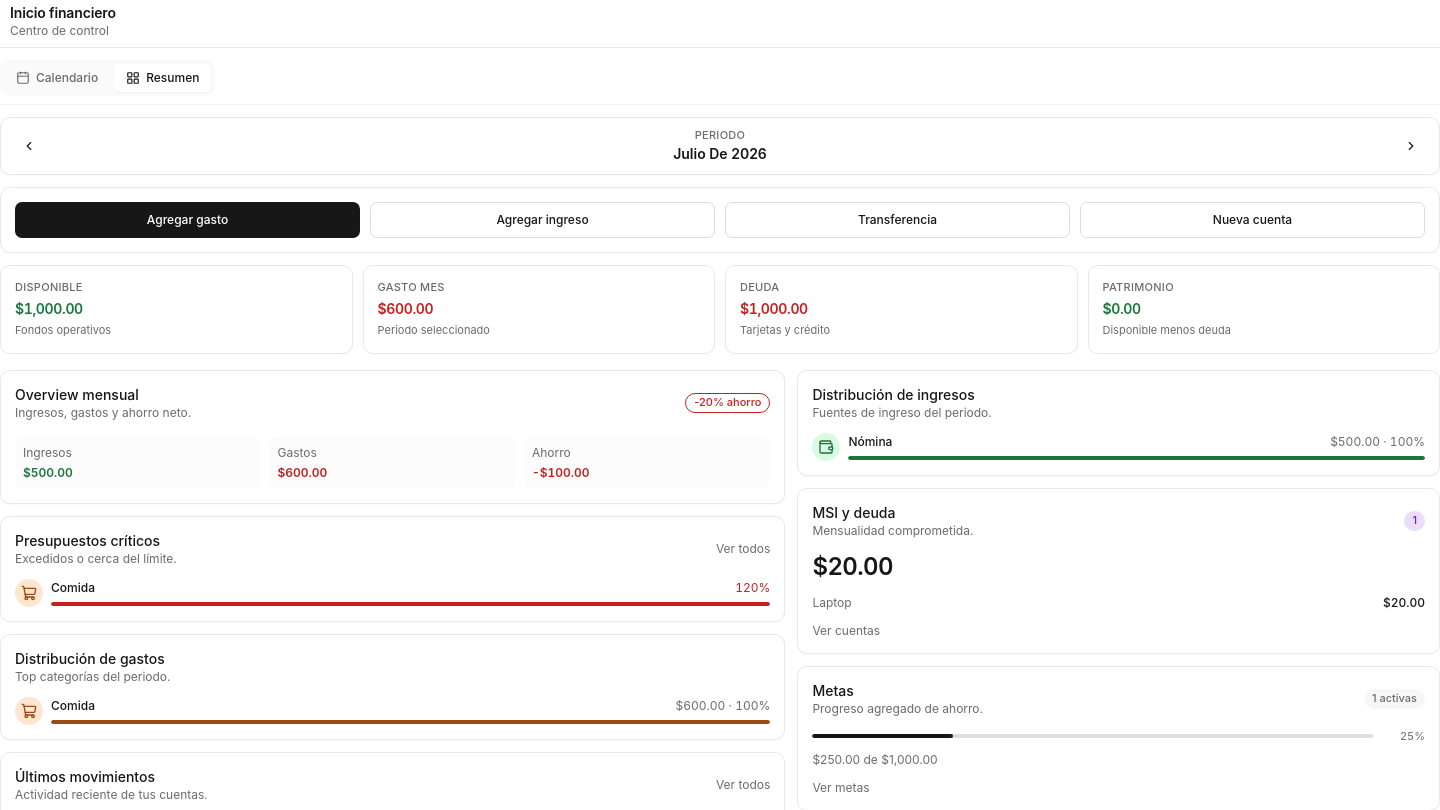
Scenario: DashboardPage › computes positive and negative aggregates, budget alerts, MSI, goals, and period filtering
Expected: the text "-20% ahorro" is shown, [685, 393, 770, 413]
Expected: the text "120%" is shown, [735, 580, 770, 596]
Click the button named "Periodo anterior" at [29, 146], box [11, 128, 47, 164]
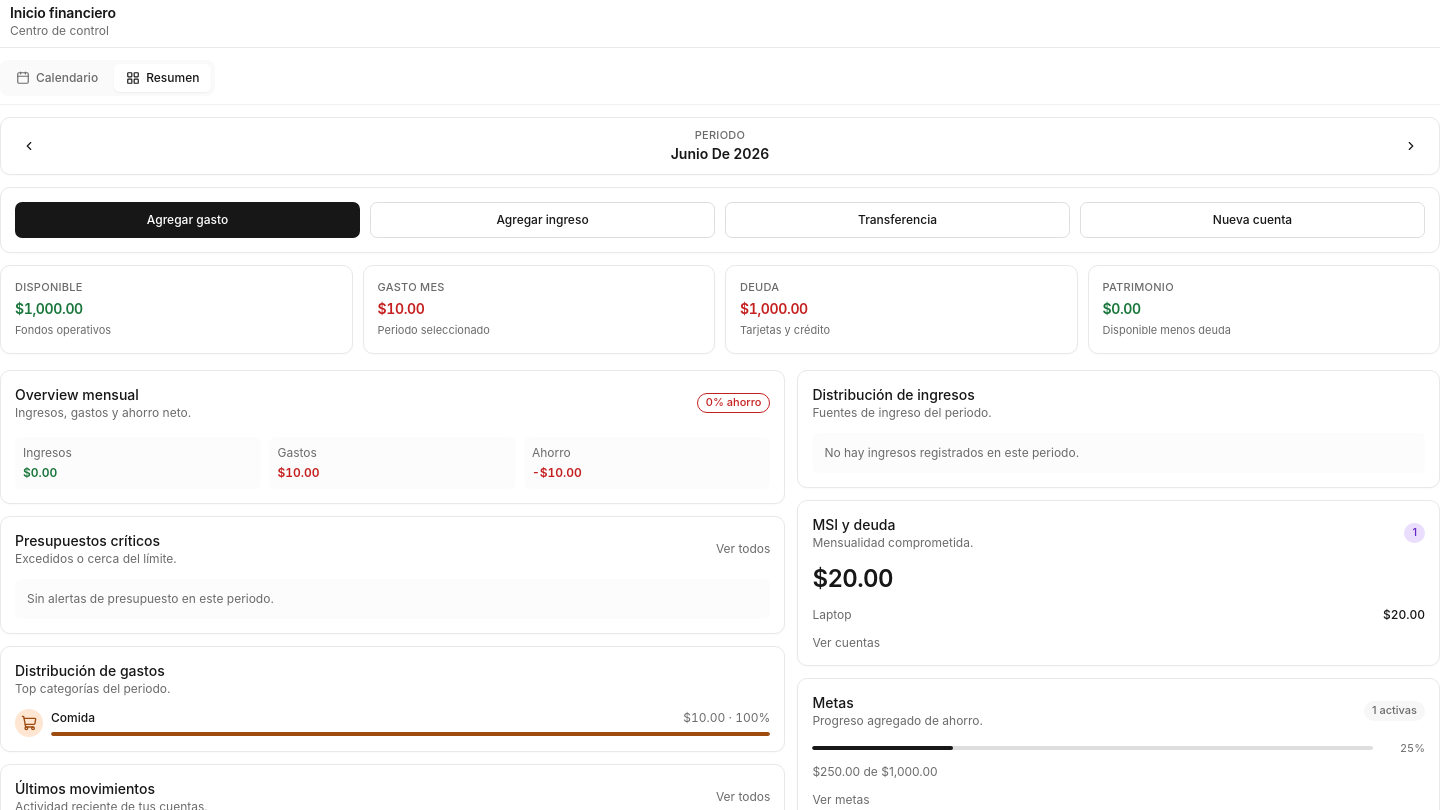
Expected: the text "0% ahorro" is shown, [697, 393, 770, 413]
Now the text "junio de 2026" is shown, box [671, 144, 769, 164]
Now the text "$10.00 · 100%" is shown, box [683, 710, 770, 726]
